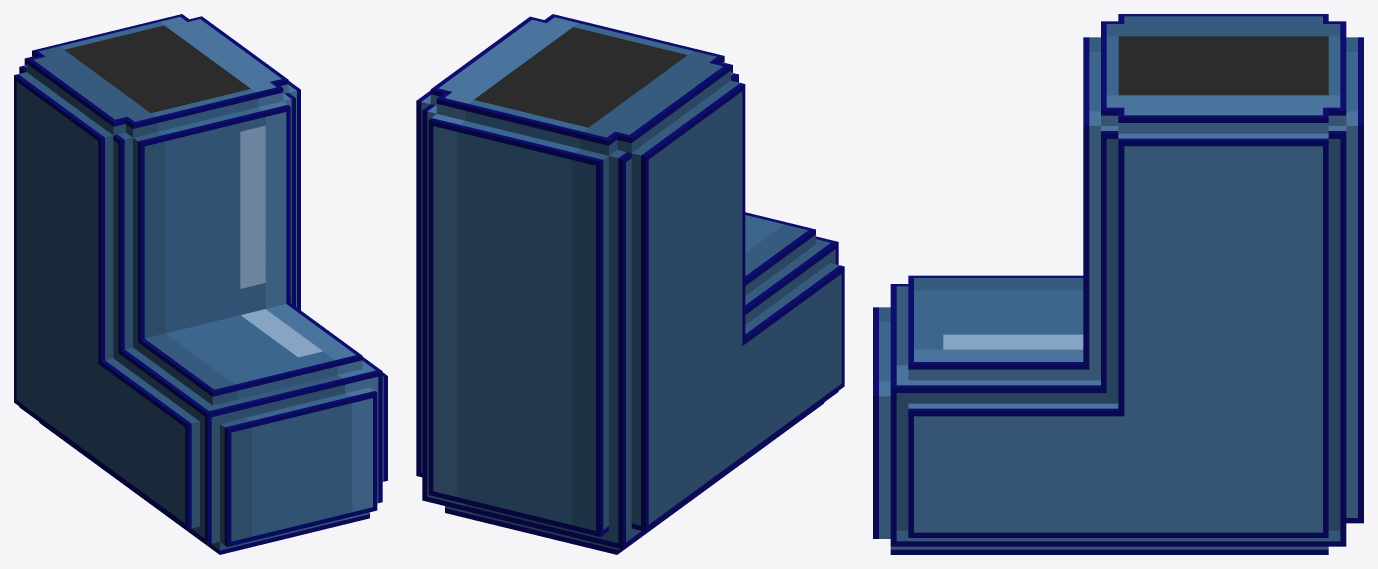
The model's file is Armor01F1.obj.
The picture shows the model from 3 angles, left to right: view 1: azimuth 30°, elevation 25°; view 2: azimuth 150°, elevation 25°; view 3: azimuth 270°, elevation 25°; orthographic projection. The views are drawn at different scales.
Bounding box in the file's own units: 4.8 × 8.4 × 8.4.
1 material, 1 textured.
